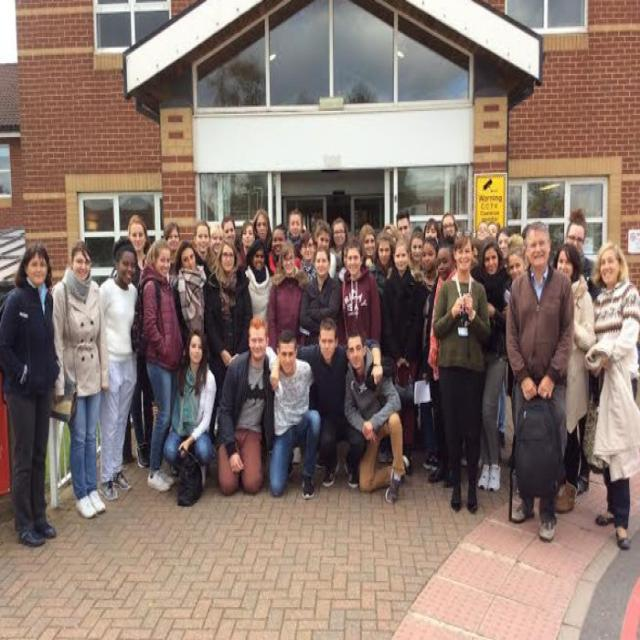body: (503, 217, 575, 544), (267, 312, 383, 492), (0, 241, 62, 550), (48, 239, 112, 522), (429, 229, 492, 515), (588, 237, 639, 551), (376, 233, 431, 477), (551, 241, 597, 513), (138, 237, 186, 493), (94, 233, 139, 504), (343, 326, 409, 506), (216, 313, 275, 496), (262, 329, 323, 501), (474, 240, 513, 493), (162, 326, 218, 489), (425, 234, 457, 491), (203, 237, 254, 396), (126, 214, 156, 470), (266, 238, 312, 358), (418, 234, 441, 473), (172, 240, 214, 359), (339, 236, 382, 348), (298, 244, 342, 343), (470, 219, 531, 273), (379, 204, 459, 243), (243, 237, 276, 325), (565, 206, 598, 284), (210, 214, 256, 260), (369, 230, 398, 298), (325, 216, 352, 272), (313, 217, 337, 278), (191, 218, 213, 284), (265, 222, 289, 277), (406, 225, 426, 288), (292, 229, 317, 278), (356, 221, 381, 270), (163, 221, 181, 285), (252, 206, 272, 252), (286, 206, 304, 256), (338, 243, 349, 281), (309, 235, 317, 258)
